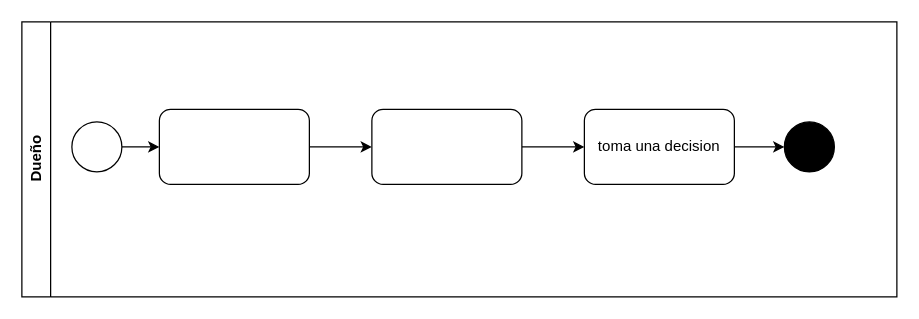
Image size: 919x319. Some labels were removed from this diagram. Each missing label, with the centre of its shape:
Revisa si es apto para la categoria que se postulo: (233,146)
Revisa su informacion personal: (446,146)
